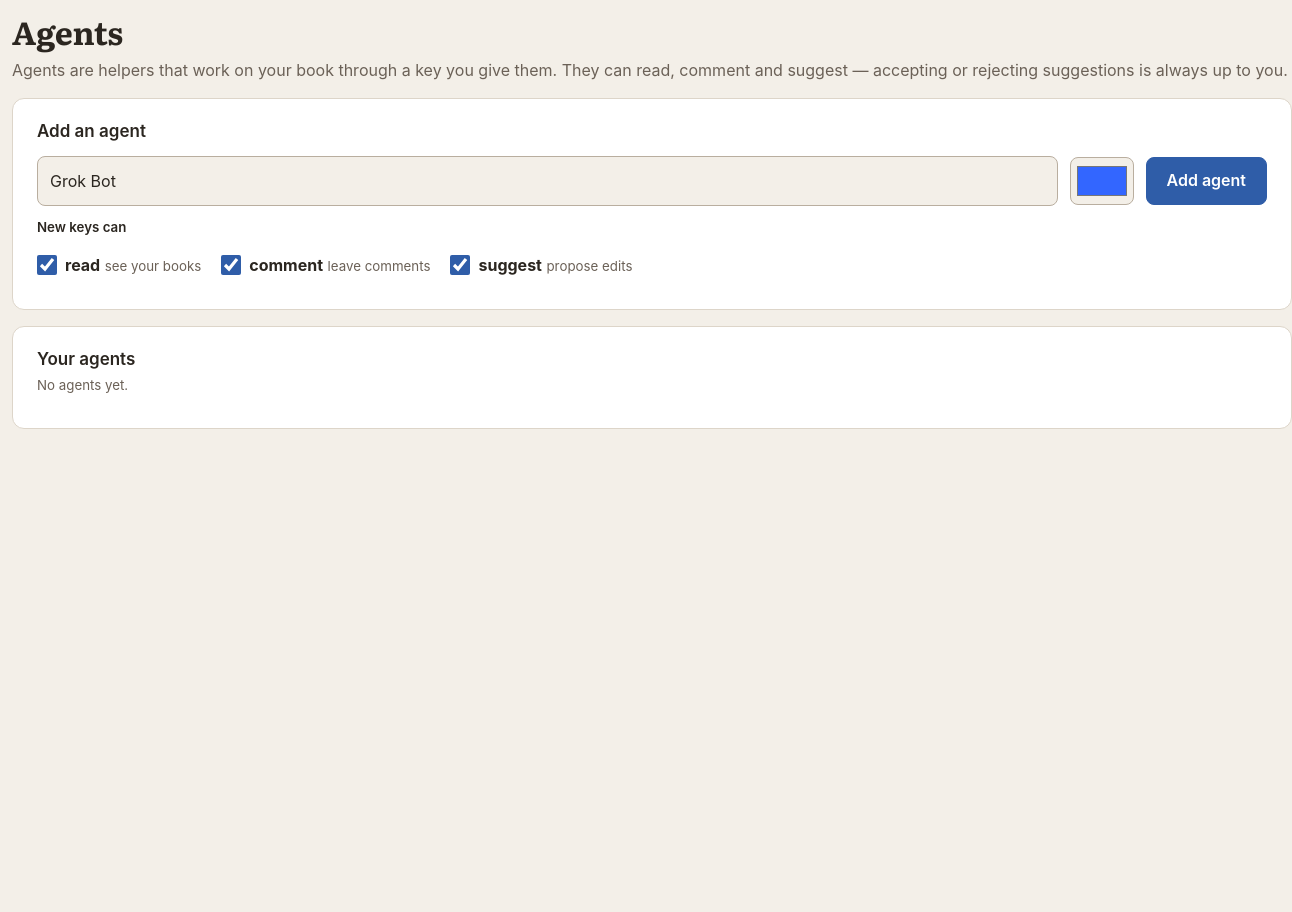
Scenario: AgentsSettings › copies the token and confirms
The image size is (1292, 912).
Submit the form with test id "create-agent", box [37,156,1267,206]
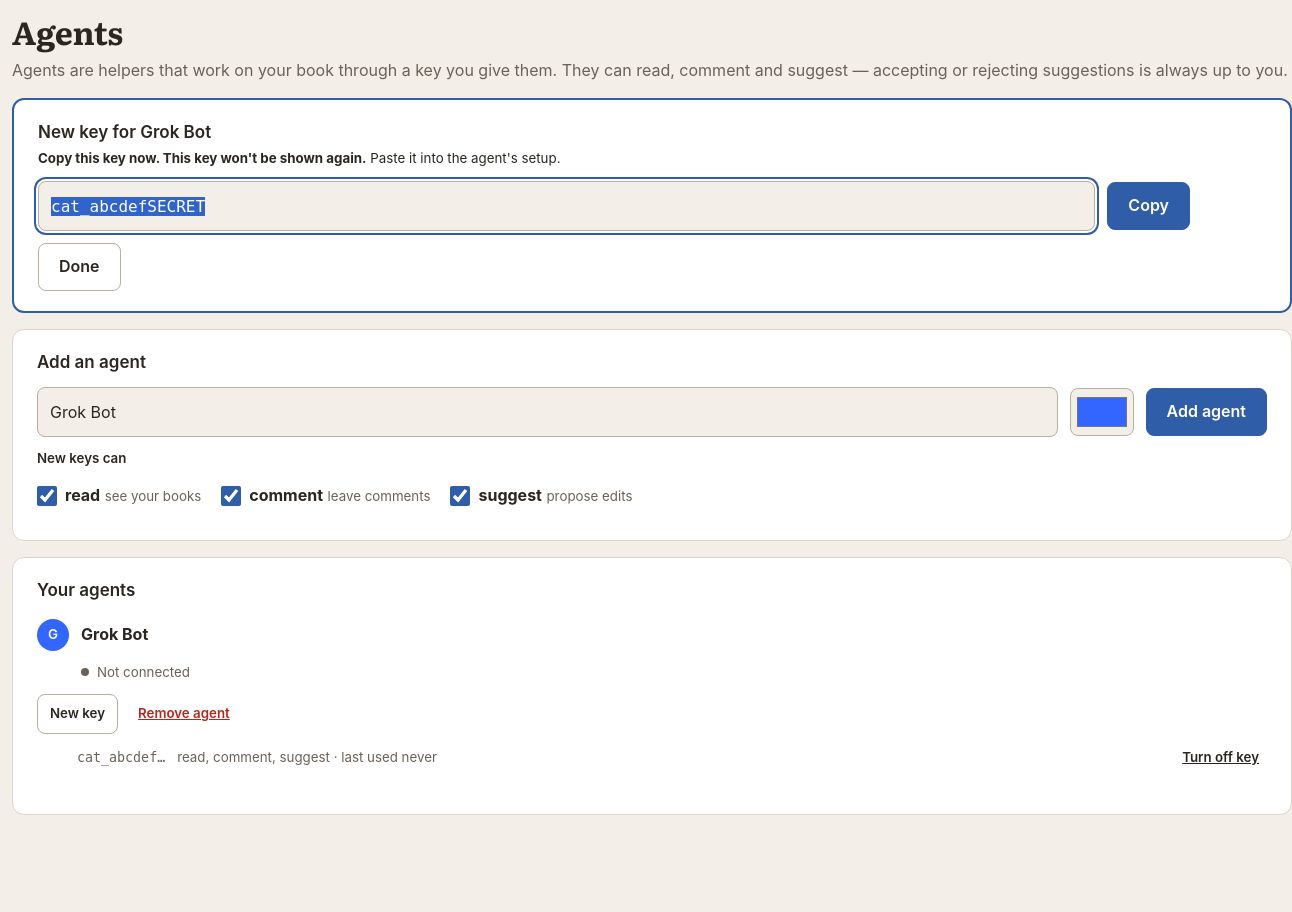
Click the button with test id "copy-token" at (1149, 206), box [1107,182,1190,230]
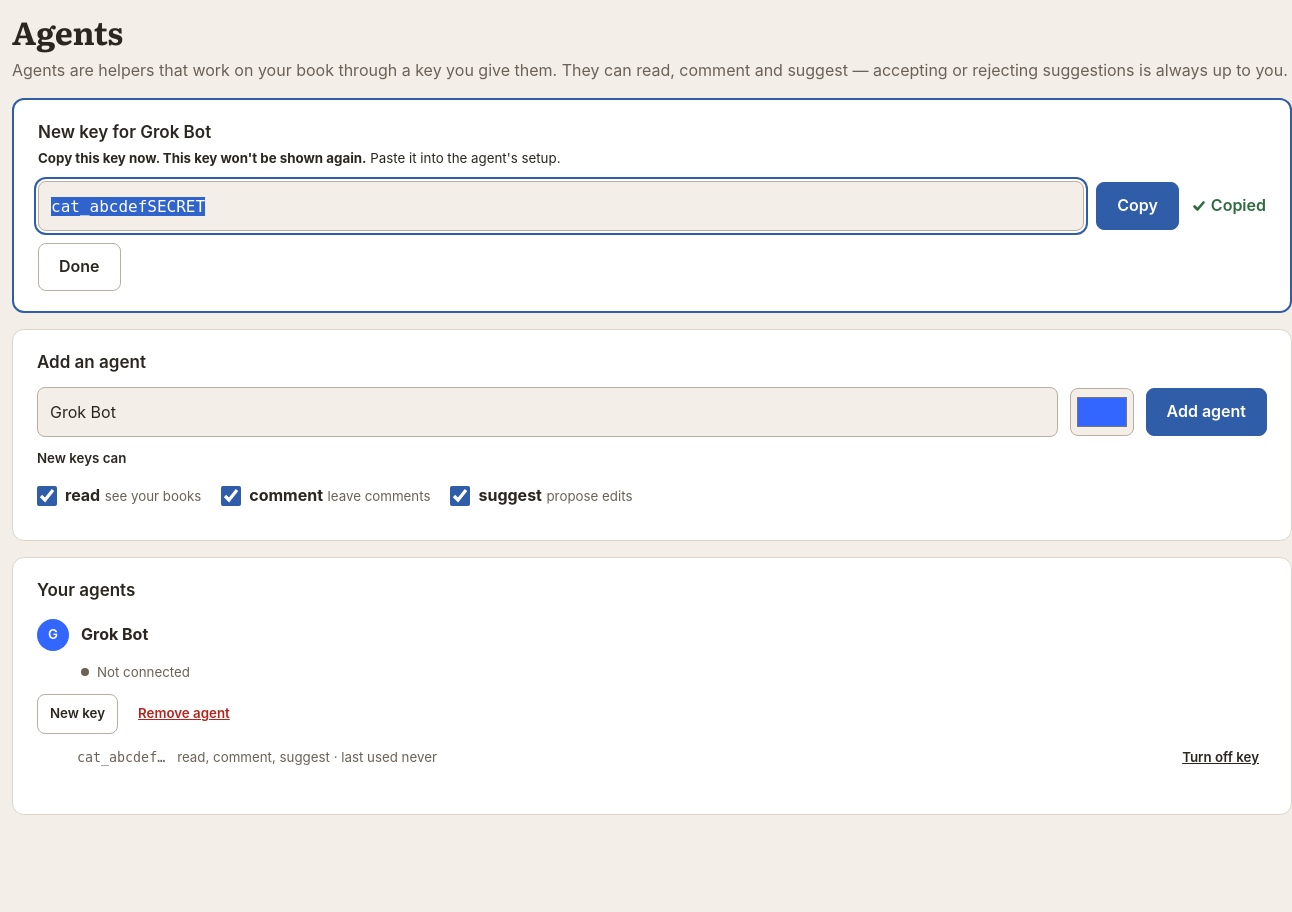
Result: the element with test id "token-once" is shown at [12,98,1291,313]
Result: the text with test id "copied" reads "Copied" at [1211,196,1266,216]
